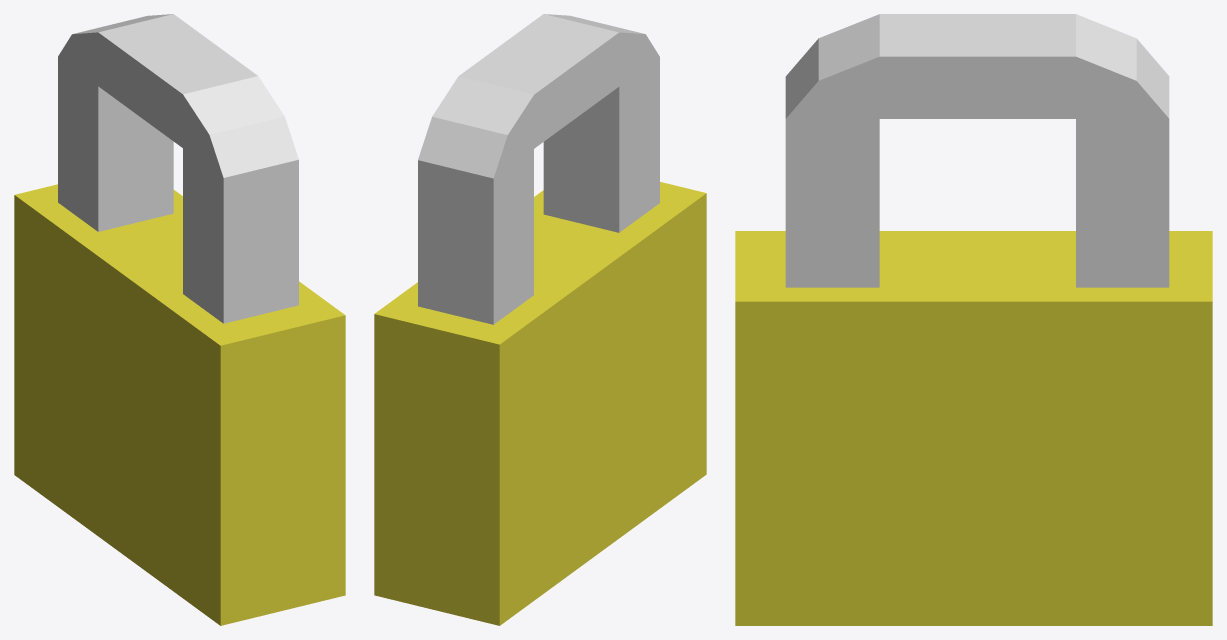
The model's file is lock.glb.
3 renders of one model, left to right at view 1: azimuth 30°, elevation 25°; view 2: azimuth 150°, elevation 25°; view 3: azimuth 270°, elevation 25°, orthographic. The views are drawn at different scales.
Visible parts, largest first — view 1: Cube; view 2: Cube; view 3: Cube.
Boxes of the visible parts, x1,y1,x2,y2 form: Cube: (14,14,345,625); Cube: (374,14,706,625); Cube: (735,14,1212,625).
Size of what is drawn, in the model's own units: 0.0932 by 0.342 by 0.2663.
